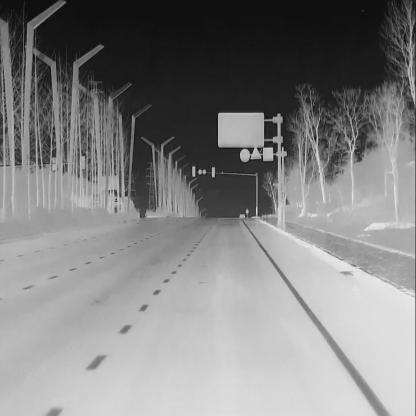car: (239, 212, 246, 220)
